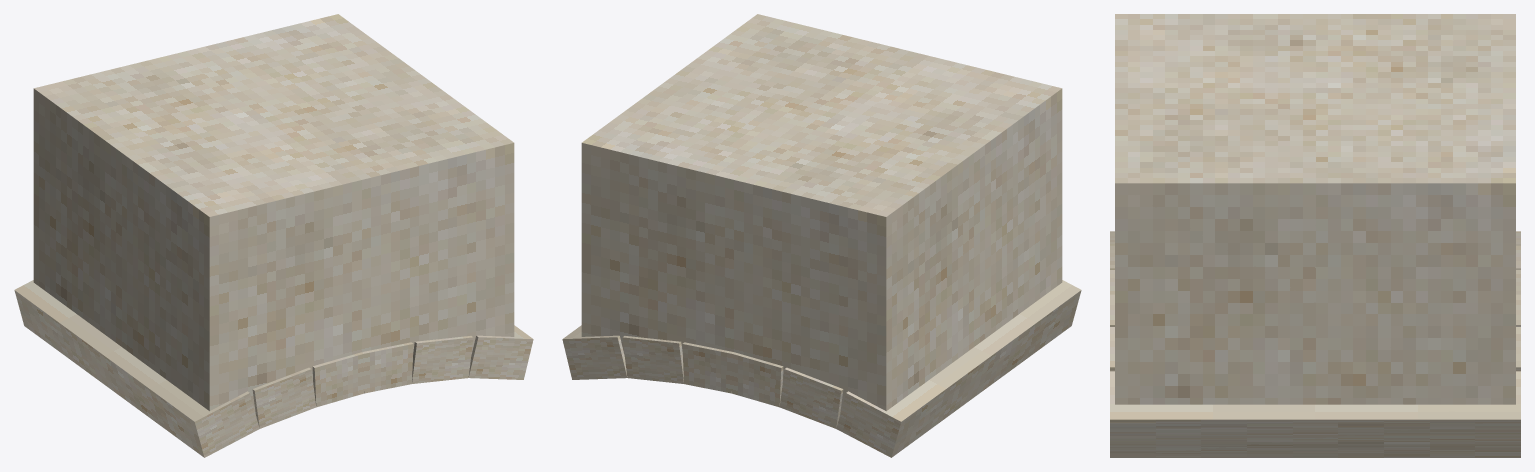
The model's file is lime_gypsum_plaster_triple_arch_top_center.obj.
The picture shows the model from 3 angles, left to right: view 1: azimuth 30°, elevation 25°; view 2: azimuth 150°, elevation 25°; view 3: azimuth 270°, elevation 25°; orthographic projection. The views are drawn at different scales.
Visible parts, largest first — view 1: Lime_Gypsum_Plaster_Triple_Arch_Centre; view 2: Lime_Gypsum_Plaster_Triple_Arch_Centre; view 3: Lime_Gypsum_Plaster_Triple_Arch_Centre.
Boxes of the visible parts, left/top/right/bottom form: Lime_Gypsum_Plaster_Triple_Arch_Centre: left=14, top=14, right=533, bottom=457; Lime_Gypsum_Plaster_Triple_Arch_Centre: left=562, top=14, right=1081, bottom=457; Lime_Gypsum_Plaster_Triple_Arch_Centre: left=1110, top=14, right=1520, bottom=457.
Bounding box in the file's own units: 1.11 × 0.7449 × 1.03.
